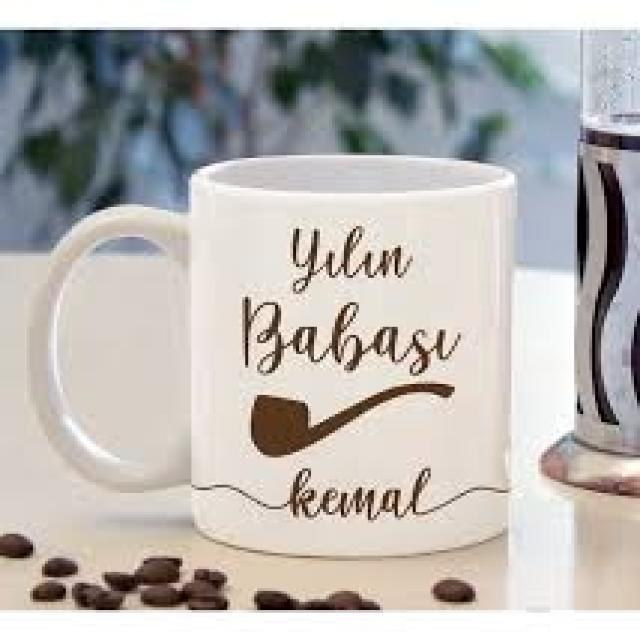taza: (29, 153, 517, 557)
